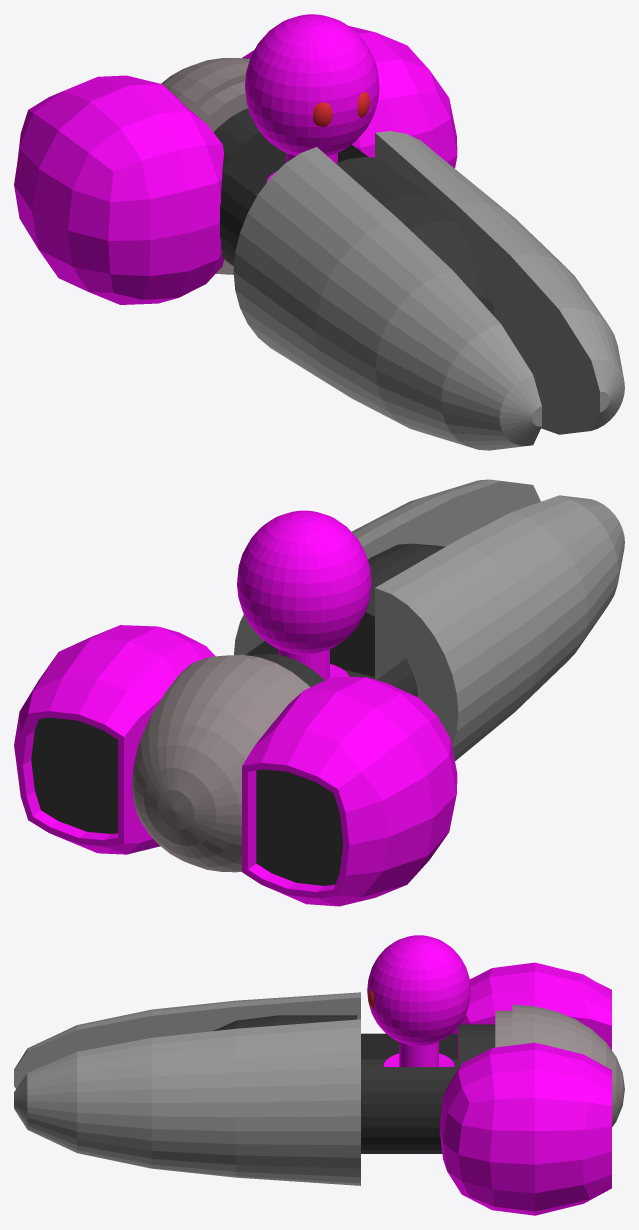
File: virture.fbx
3 renders of one model, top to bottom at view 1: azimuth 30°, elevation 25°; view 2: azimuth 150°, elevation 25°; view 3: azimuth 270°, elevation 25°, orthographic. The views are drawn at different scales.
Parts seen in each view (by area): view 1: Sphere.010, Cube.032, Sphere.008, Sphere.011, Sphere.009; view 2: Cube.032, Sphere.010, Sphere.008, Sphere.011; view 3: Sphere.010, Cube.032, Sphere.008, Sphere.011.
Boxes of the visible parts, left/top/right/bottom form: Sphere.010: left=233, top=131, right=624, bottom=450; Cube.032: left=14, top=25, right=457, bottom=304; Sphere.008: left=161, top=58, right=494, bottom=315; Sphere.011: left=245, top=14, right=379, bottom=182; Sphere.009: left=313, top=92, right=369, bottom=126; Cube.032: left=14, top=625, right=457, bottom=906; Sphere.010: left=234, top=479, right=624, bottom=760; Sphere.008: left=132, top=543, right=445, bottom=872; Sphere.011: left=237, top=510, right=371, bottom=680; Sphere.010: left=14, top=992, right=360, bottom=1185; Cube.032: left=439, top=962, right=611, bottom=1215; Sphere.008: left=212, top=1004, right=624, bottom=1153; Sphere.011: left=367, top=935, right=470, bottom=1066.
Bounding box in the file's own units: 165 × 118 × 281.
